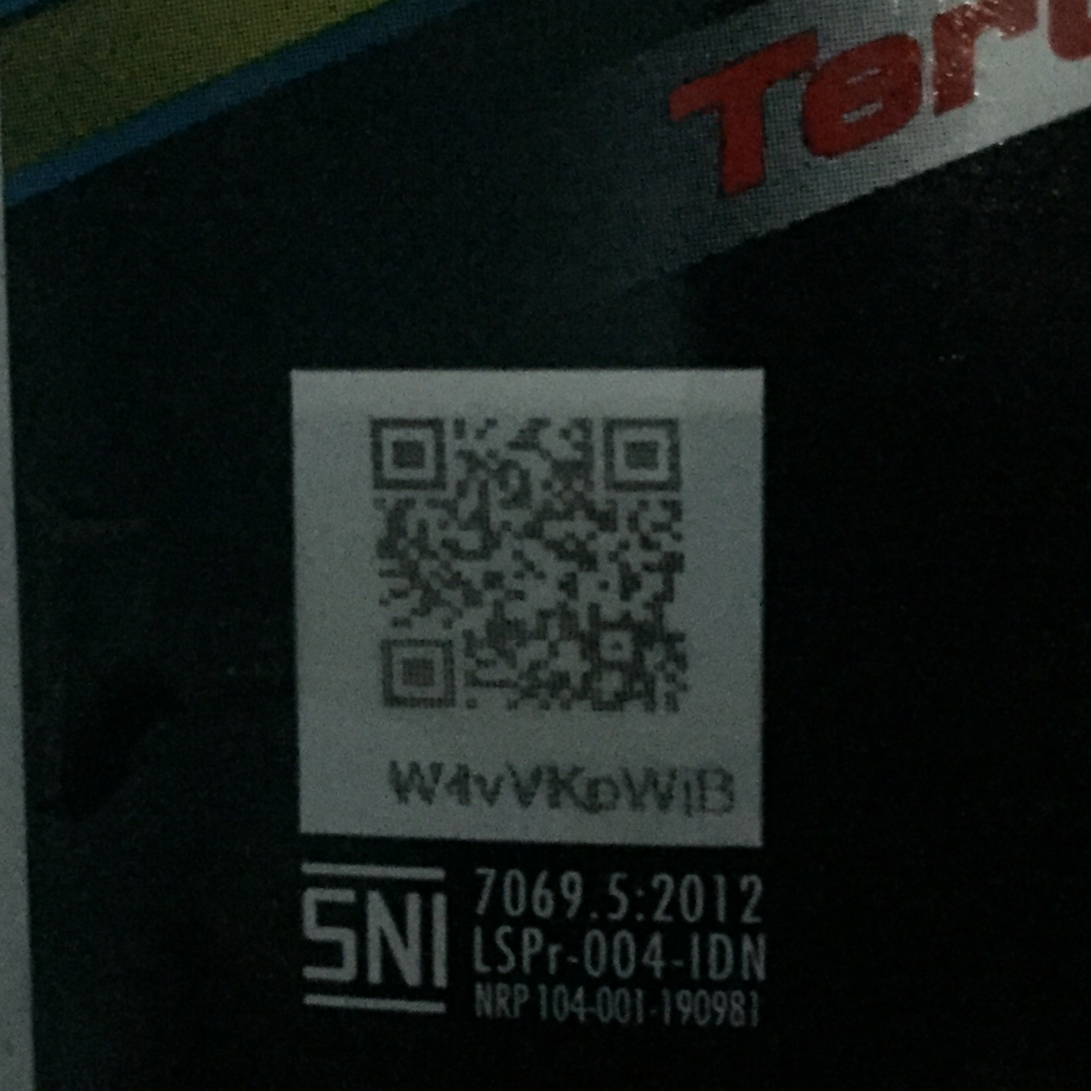QR-CODE: (359, 403, 715, 732)
